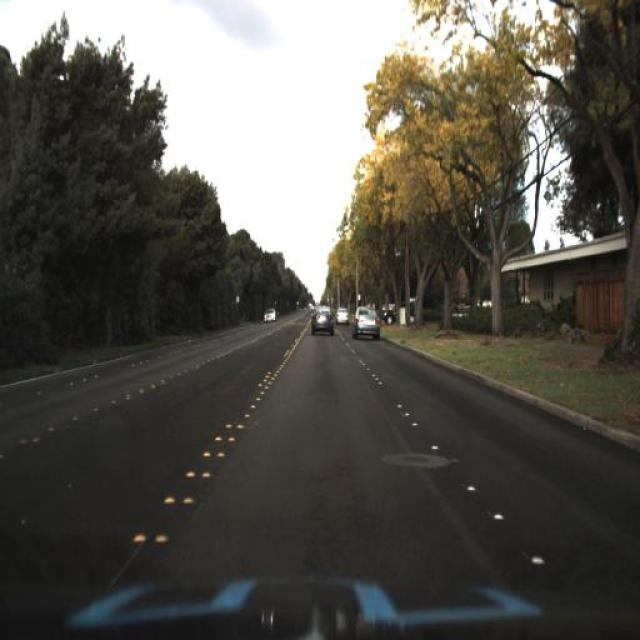car: (382, 294, 423, 337), (306, 297, 340, 344), (350, 302, 384, 344), (260, 302, 280, 327), (335, 302, 350, 327)
